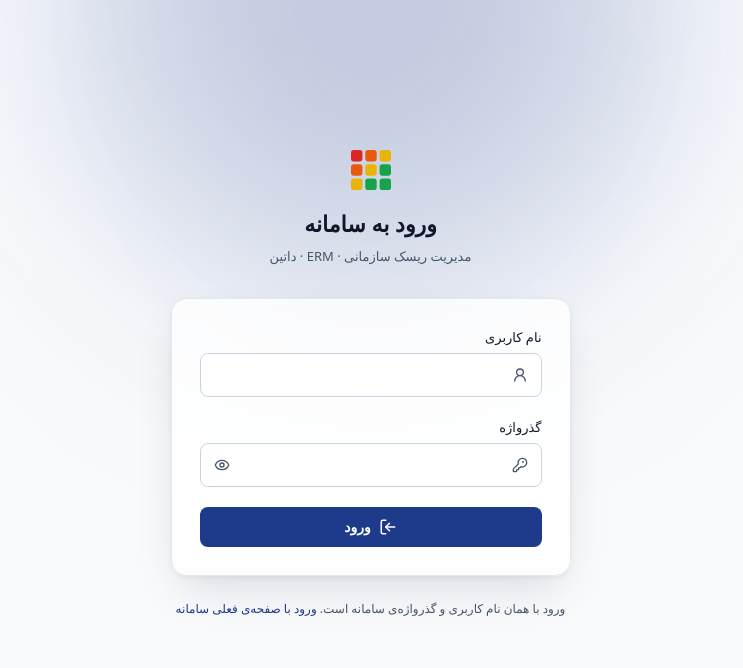
Test: LoginPage › shows the server's message, clears the password and focuses it
Type "tester" into the field labelled "نام کاربری" at x=370, y=375, box x1=200 y1=353 x2=542 y2=397
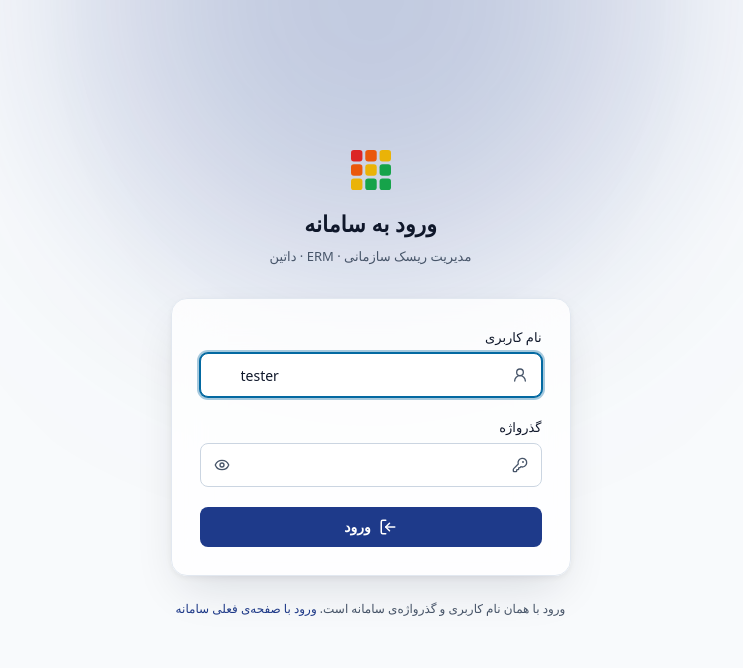
Type "wrong" into the password field labelled "گذرواژه" at x=370, y=465, box x1=200 y1=443 x2=542 y2=487
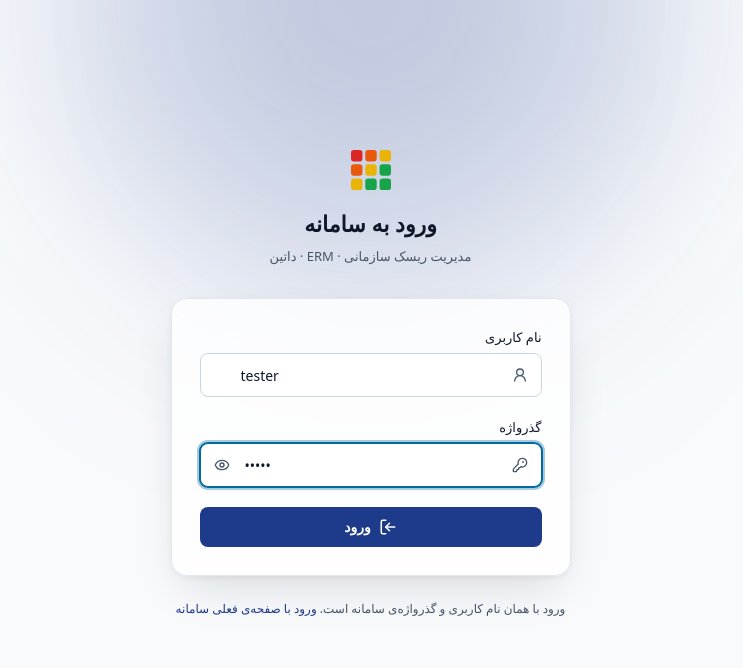
Click the button "ورود" at x=370, y=527, box x1=200 y1=507 x2=542 y2=547
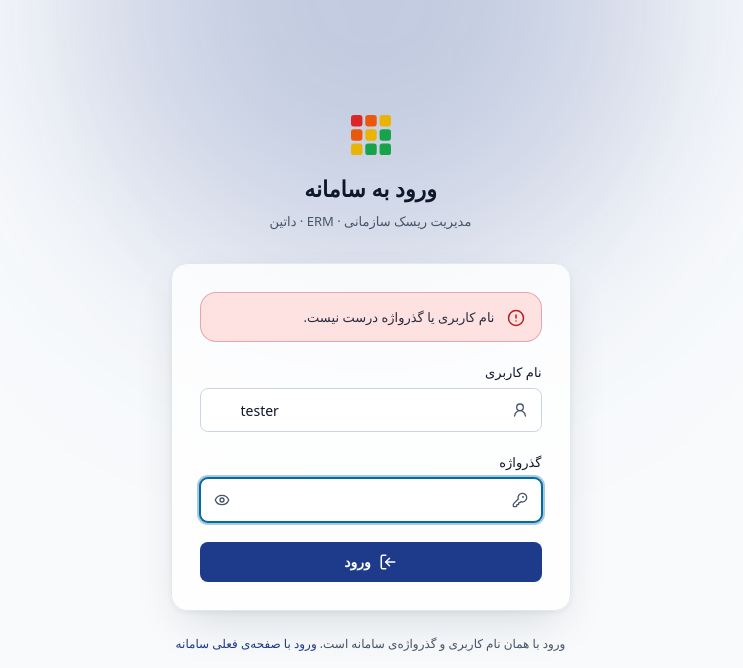
Check: the message reads "نام کاربری یا گذرواژه درست نیست.", box x1=304 y1=308 x2=494 y2=326
Check: the password field labelled "گذرواژه" is empty, box x1=200 y1=478 x2=542 y2=522
